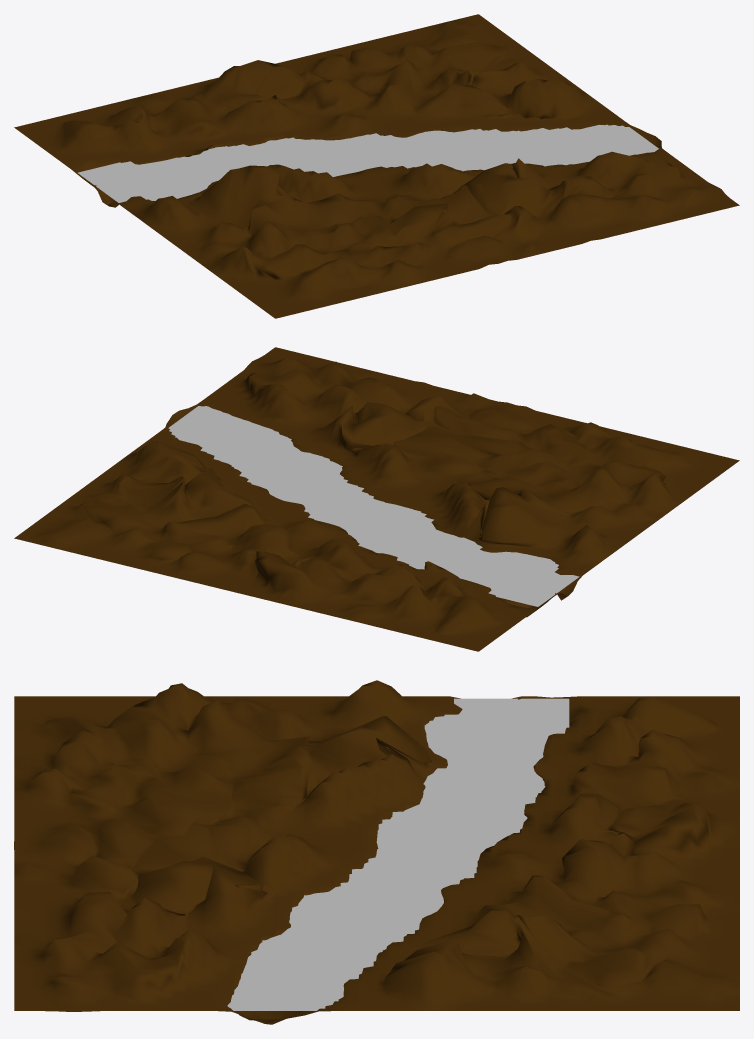
File: mountainsriver.fbx
3 views of the same model, one above another, from view 1: azimuth 30°, elevation 25°; view 2: azimuth 150°, elevation 25°; view 3: azimuth 270°, elevation 25° (orthographic). The views are drawn at different scales.
Parts seen in each view (by area): view 1: pPlane1, pPlane2; view 2: pPlane1, pPlane2; view 3: pPlane1, pPlane2.
Boxes of the visible parts, left/top/right/bottom form: pPlane1: left=14, top=14, right=739, bottom=318; pPlane2: left=78, top=124, right=658, bottom=202; pPlane1: left=14, top=347, right=739, bottom=651; pPlane2: left=168, top=406, right=579, bottom=606; pPlane1: left=14, top=680, right=739, bottom=1024; pPlane2: left=227, top=698, right=569, bottom=1010.
Bounding box in the file's own units: 67.74 × 8.24 × 64.68.
